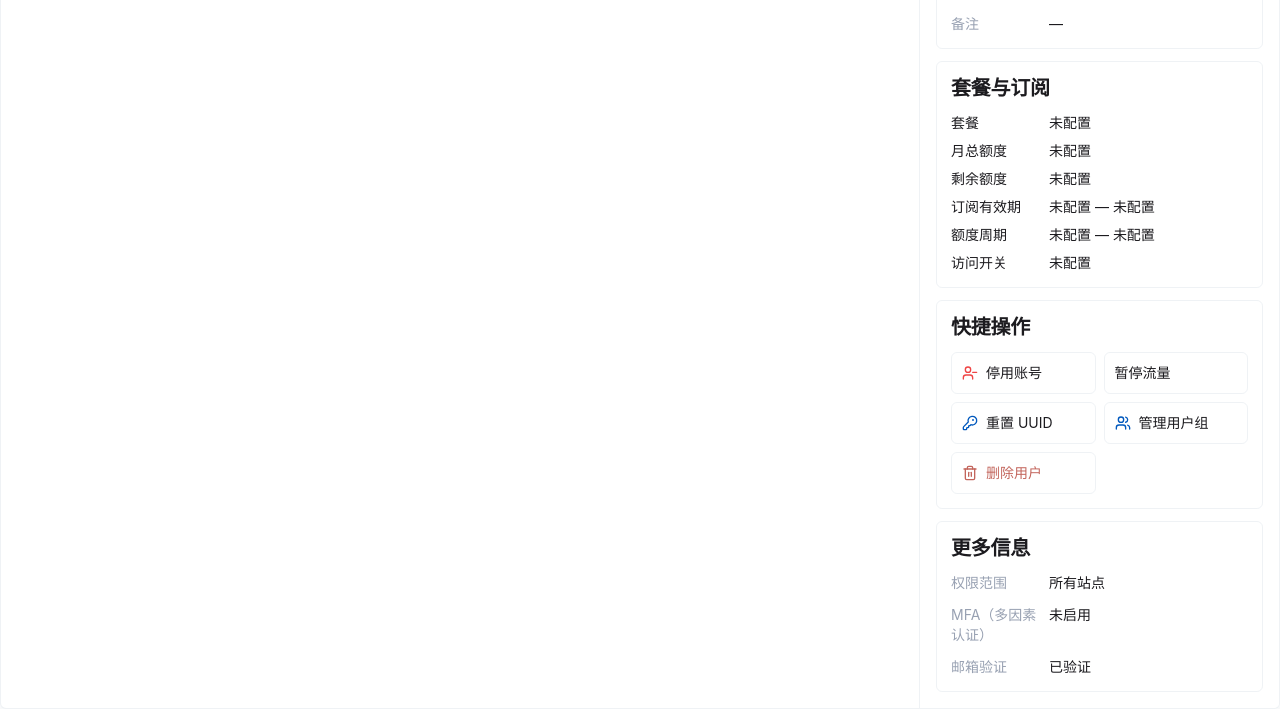
UserCenterManagementRoute delete user flow › shows protected-account errors inline inside the dialog without window.alert
(page scrolled)
Click the button "删除用户" at (1023, 473), box [951,452,1096,494]
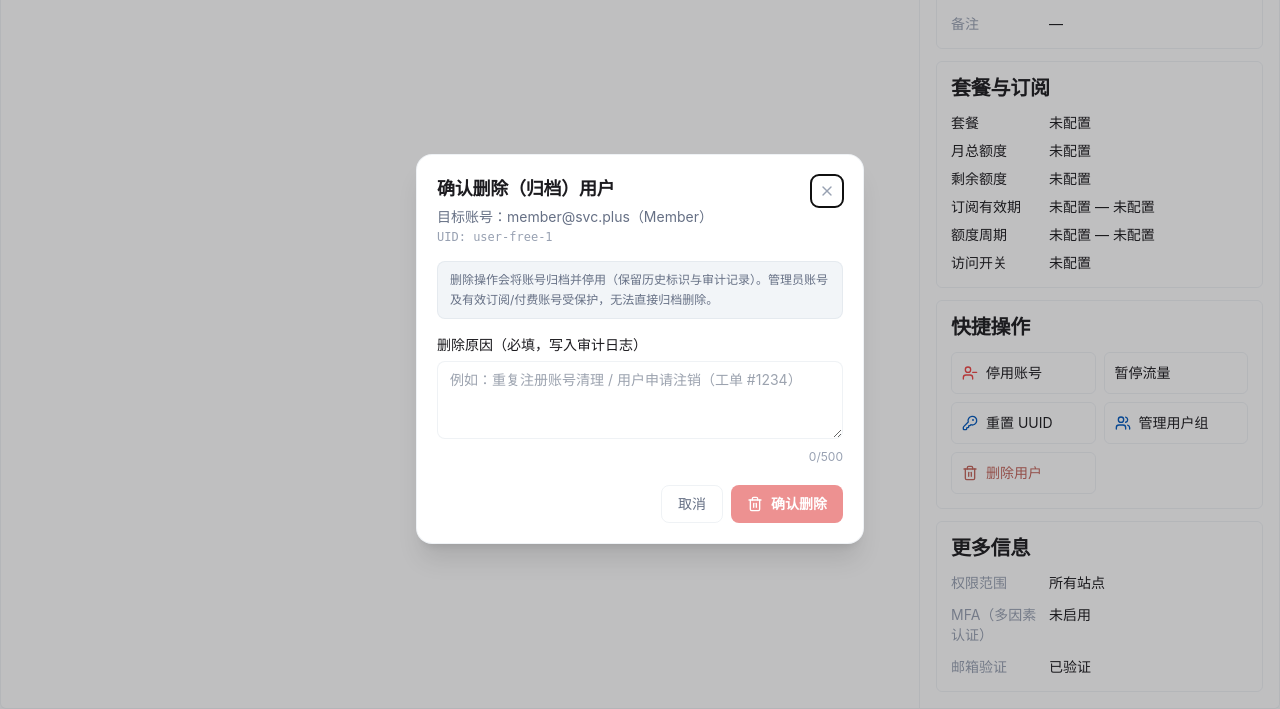
Type "cleanup request" into the text box labelled "删除原因（必填，写入审计日志）" at (640, 400), box [437,361,843,439]
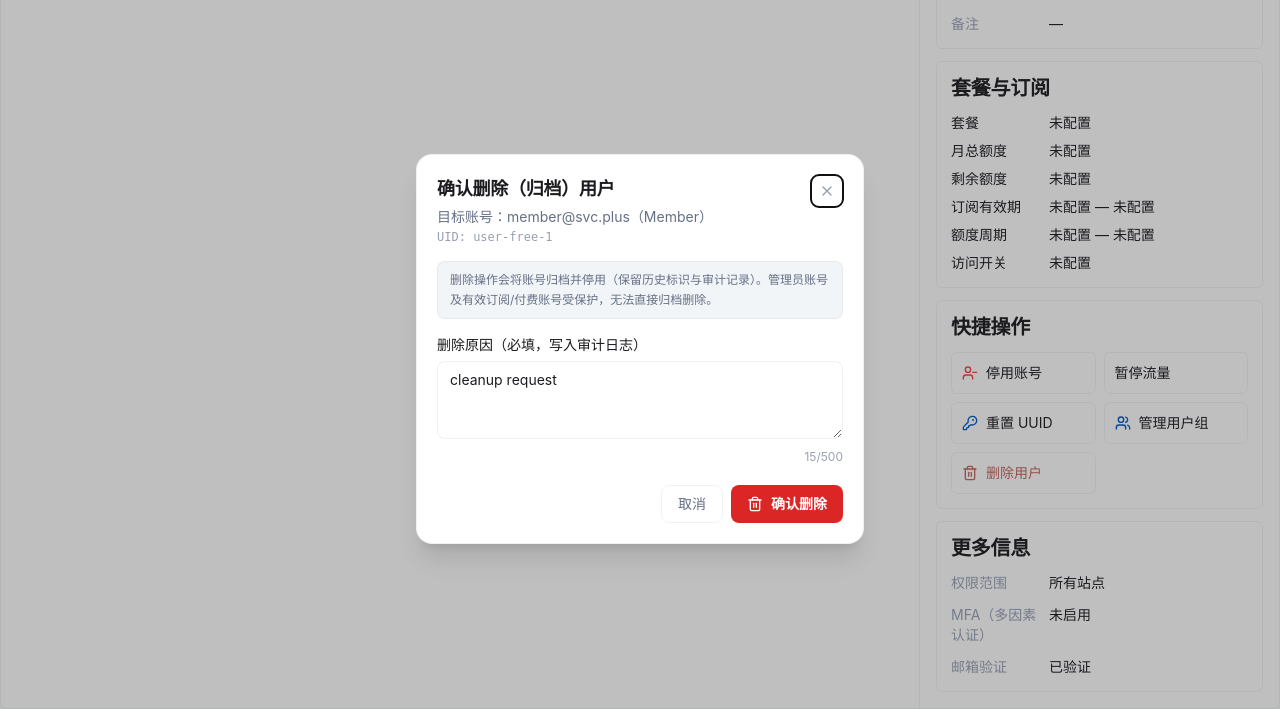
Click the button "确认删除" at (787, 504), box [731,485,843,523]
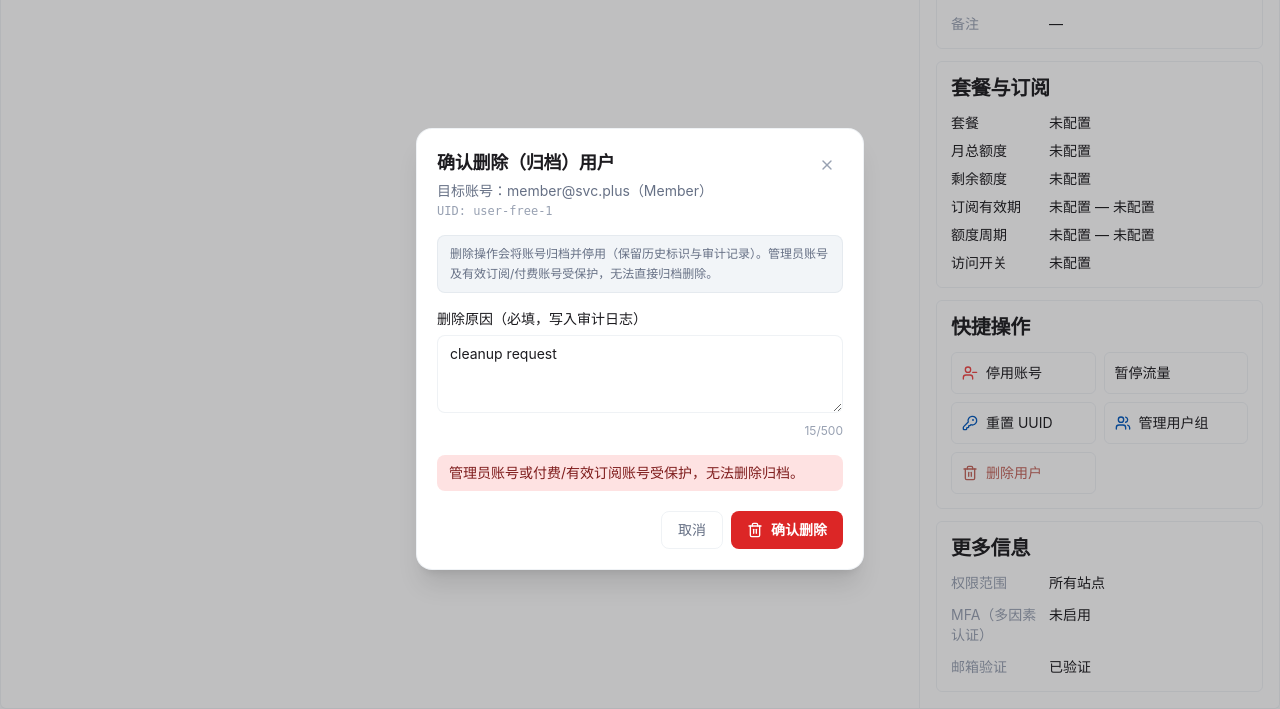
Now the message reads "管理员账号或付费/有效订阅账号受保护，无法删除归档。", box [449,464,804,481]
